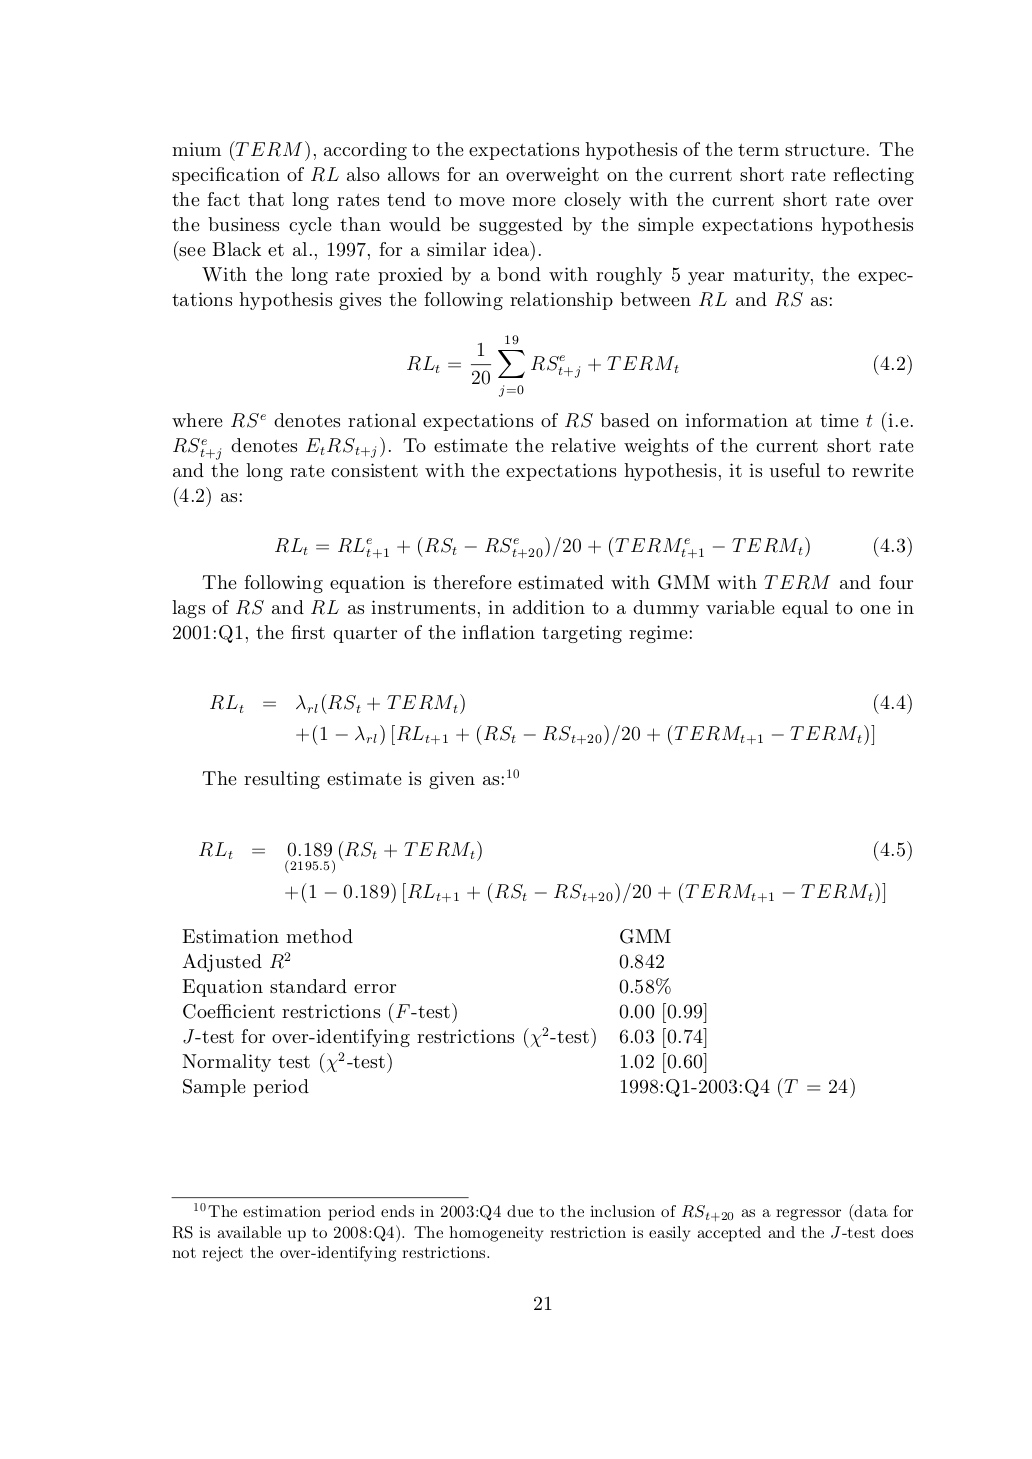Table: (182, 929, 854, 1097)
formula: (407, 334, 911, 397), (199, 839, 911, 874), (275, 536, 911, 559), (210, 693, 911, 714), (285, 882, 885, 903), (296, 724, 875, 745)
